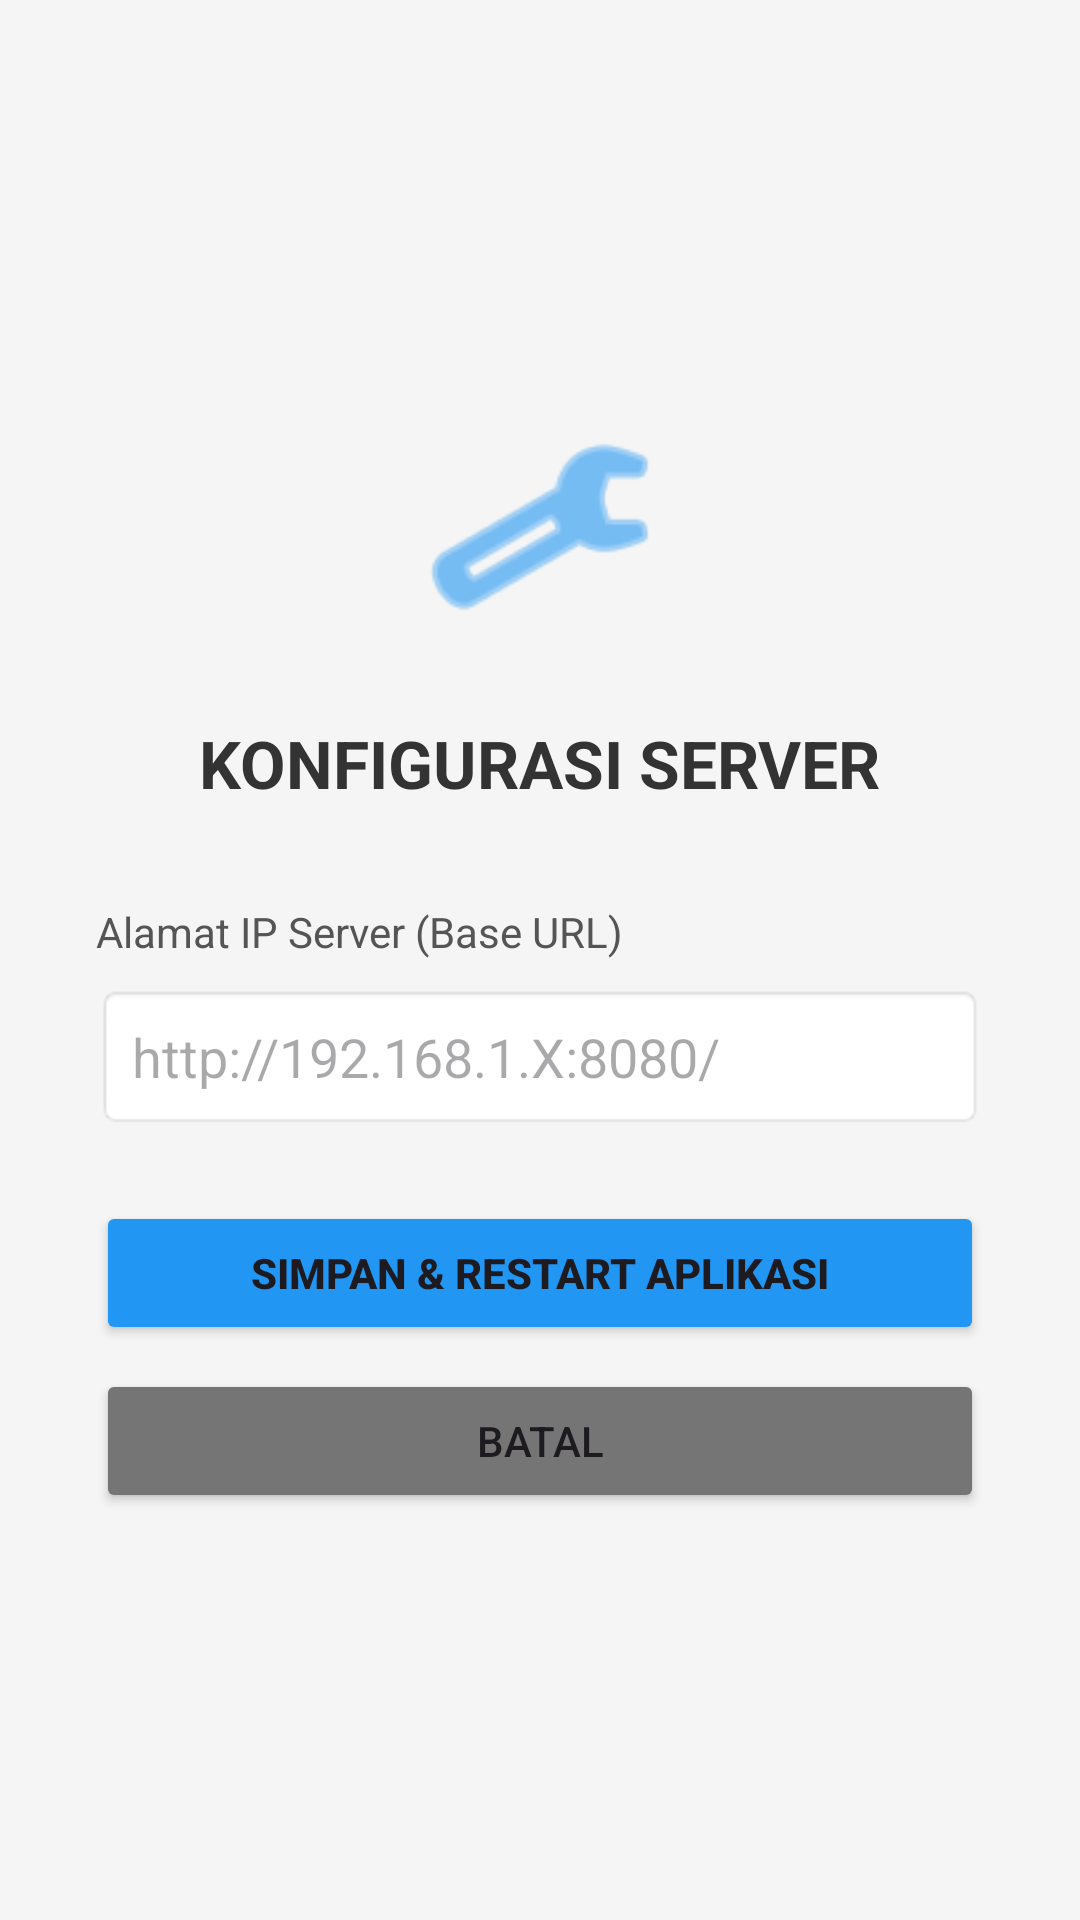

Where to tap for icons on this 1080 × 1920 app screen, as point (x, y):
manage: point (540, 527)
